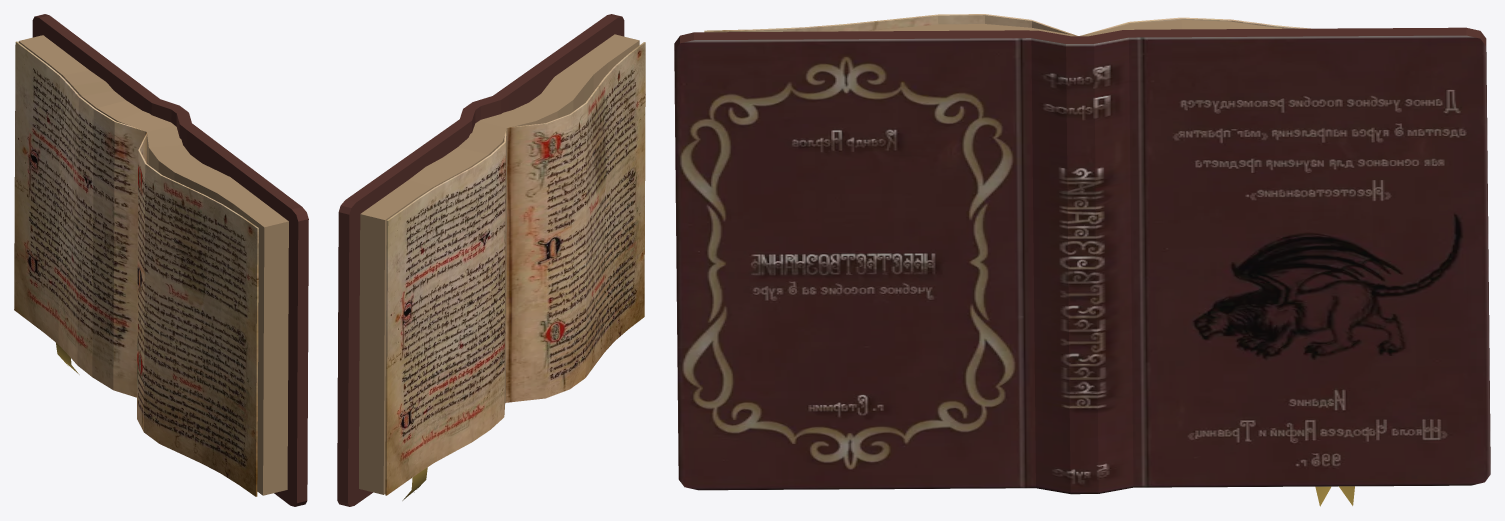
The model's file is about-transformed.glb.
3 views of the same model, side by side, from view 1: azimuth 30°, elevation 25°; view 2: azimuth 150°, elevation 25°; view 3: azimuth 270°, elevation 25° (orthographic). The views are drawn at different scales.
Size of the model in its own units: 0.0708 by 0.3069 by 0.4684.
5 materials, 2 textured.
